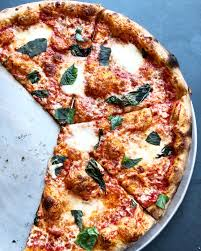pizza: (3, 4, 180, 248)
